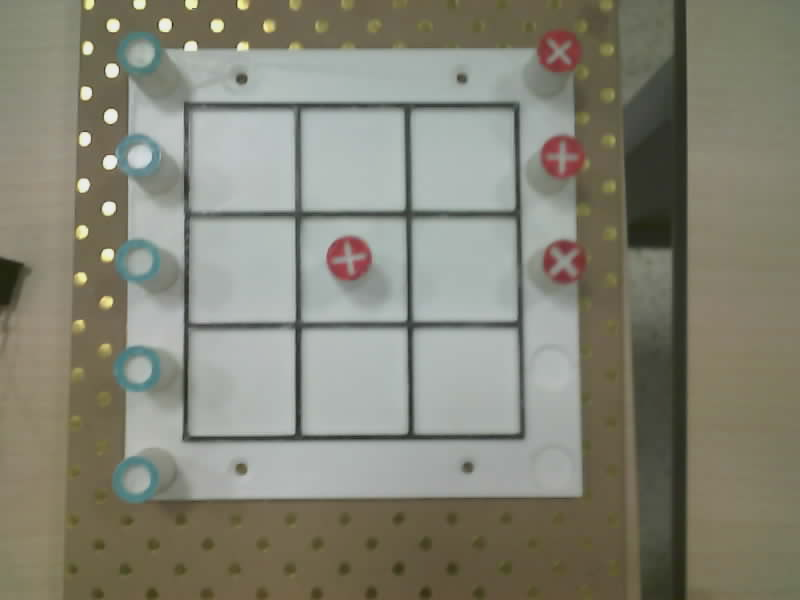blue circle: (112, 455, 159, 502), (113, 346, 160, 391), (115, 239, 160, 282), (115, 134, 160, 176), (117, 32, 162, 74)
board: (114, 32, 586, 501)
cells: (413, 327, 520, 435), (301, 328, 408, 435), (187, 329, 294, 435), (187, 106, 293, 211), (188, 217, 294, 322), (412, 217, 517, 321), (300, 217, 406, 320), (412, 107, 516, 210), (301, 107, 405, 210)
grid: (182, 103, 524, 440)
red cross: (326, 236, 371, 280), (542, 239, 586, 283), (540, 135, 584, 178), (537, 30, 581, 72)
